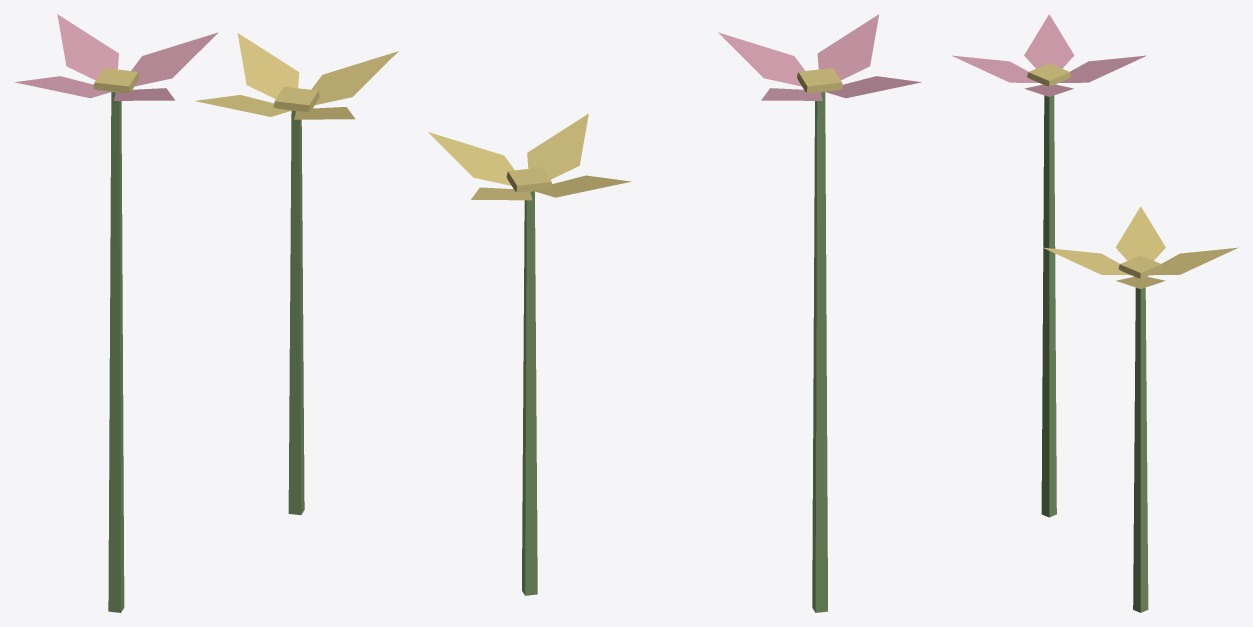
3 views of the same model, side by side, from view 1: azimuth 30°, elevation 25°; view 2: azimuth 150°, elevation 25°; view 3: azimuth 270°, elevation 25° (orthographic). The views are drawn at different scales.
Parts seen in each view (by area): view 1: Body; view 2: Body; view 3: Body.
Boxes of the visible parts, box(x1,y1,x2,y2) form: Body: box(15, 14, 398, 612); Body: box(428, 14, 921, 612); Body: box(952, 14, 1238, 612).
Bounding box in the file's own units: 1.38 × 1.66 × 0.944.
